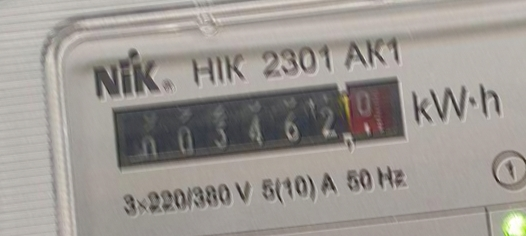0: (174, 124, 195, 155), (354, 90, 374, 119), (137, 134, 159, 159)
2: (317, 106, 339, 139)
3: (209, 118, 230, 152)
4: (246, 114, 266, 147)
6: (279, 109, 303, 145)
9: (138, 112, 160, 133)
screen: (98, 65, 418, 190)
